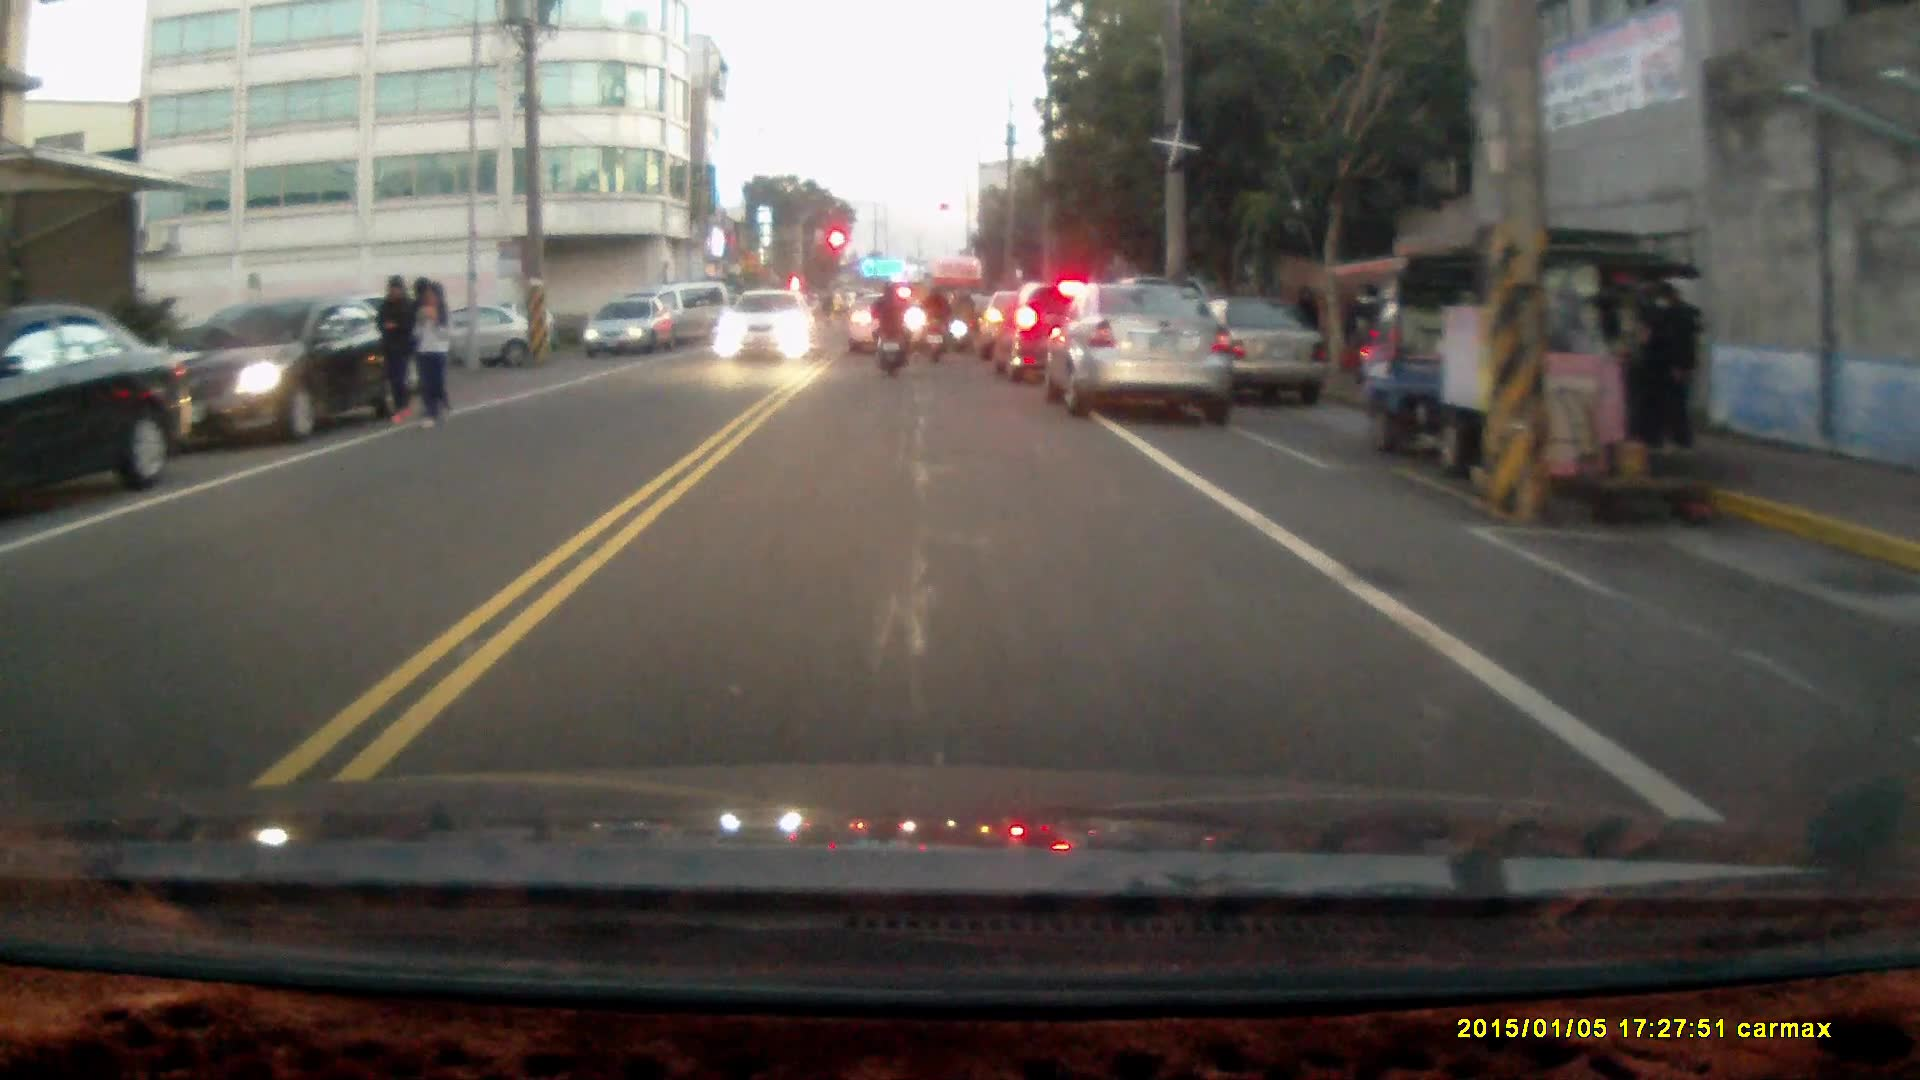pedestrian: (1644, 276, 1705, 449), (378, 278, 423, 437), (413, 284, 456, 440), (1287, 283, 1321, 356)
rider: (868, 279, 911, 375), (918, 285, 950, 363)
vehicle: (1365, 223, 1689, 477), (131, 297, 408, 456), (0, 301, 197, 523), (1050, 275, 1237, 415), (1006, 279, 1175, 387), (714, 291, 815, 360), (850, 294, 932, 358), (587, 298, 674, 356)
